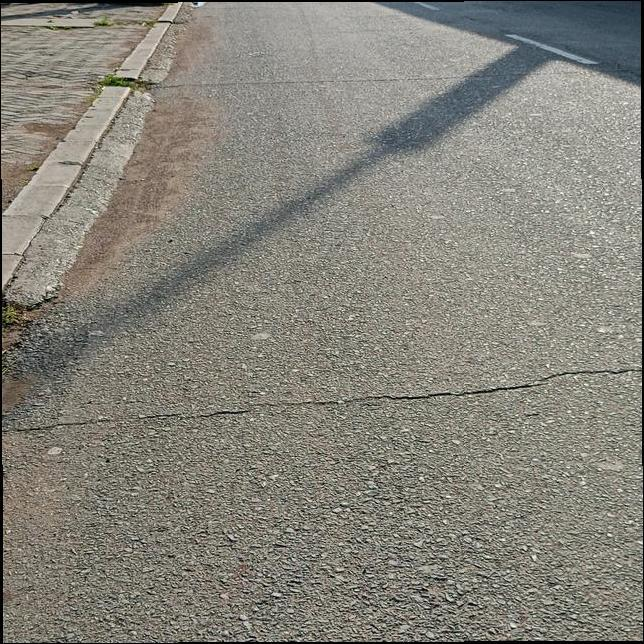Melintang: (10, 348, 644, 450)
